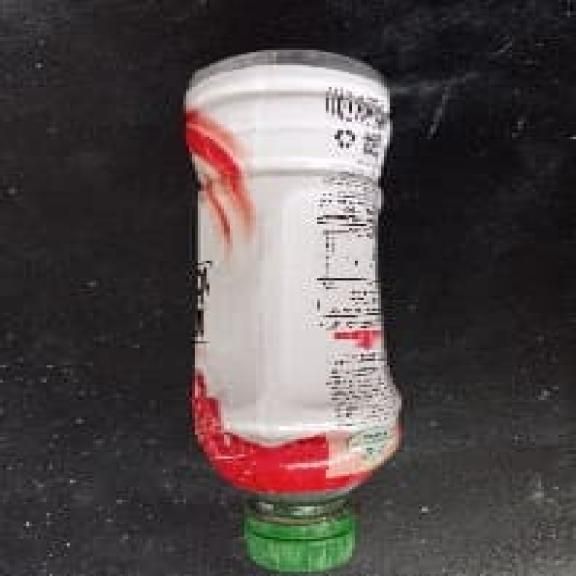Plastik: (190, 49, 401, 572)
